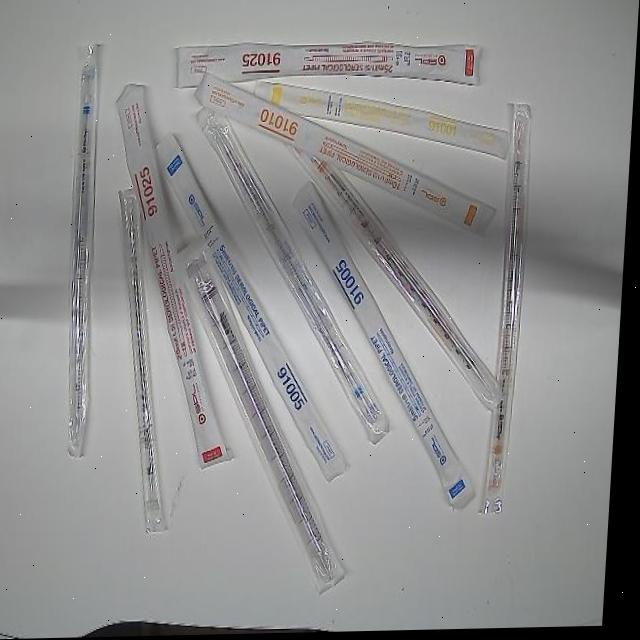Serelogical Pipet 1 mL - Sealed: (250, 76, 516, 171)
Serelogical Pipet 10 mL - Sealed: (274, 124, 526, 417), (188, 69, 508, 245), (485, 100, 539, 523)
Serelogical Pipet 2 mL - Sealed: (102, 178, 195, 540)
Serelogical Pipet 25 mL - Sealed: (99, 77, 259, 474), (170, 37, 487, 95)
Serelogical Pipet 5 mL - Sealed: (139, 128, 372, 490), (182, 100, 412, 452), (278, 174, 500, 522), (61, 41, 118, 468)
Serelogical Pipet 50 mL - Sealed: (165, 235, 373, 604)
